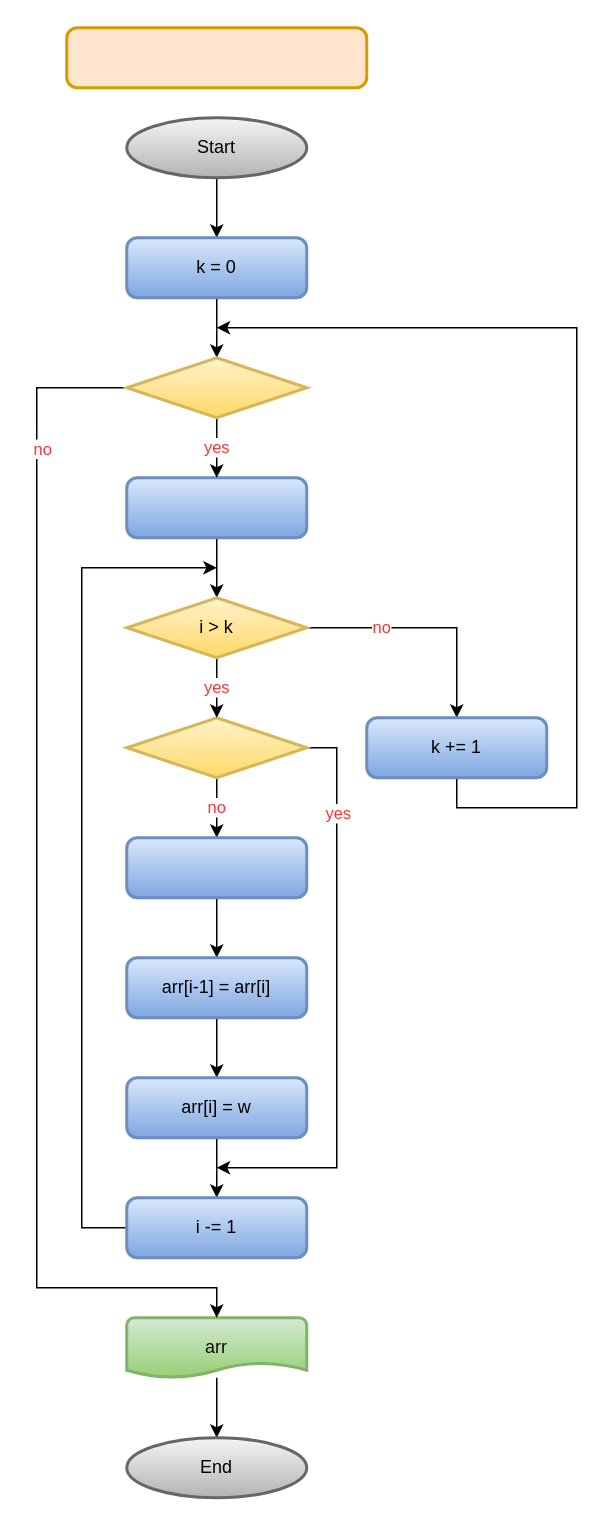
The diagram is 615 pixels wide and 1524 high, and some of its shapes have lost their labels. The shapes that lost their labels are listed below. From the top down, each one's centre as x and y in pixels, then its label:
[216,57]: 단순 선택법
[216,387]: k < len(arr)
[216,507]: i = len(arr)
[216,747]: arr[i-1] < arr[i]
[216,867]: w = arr[i-1]
